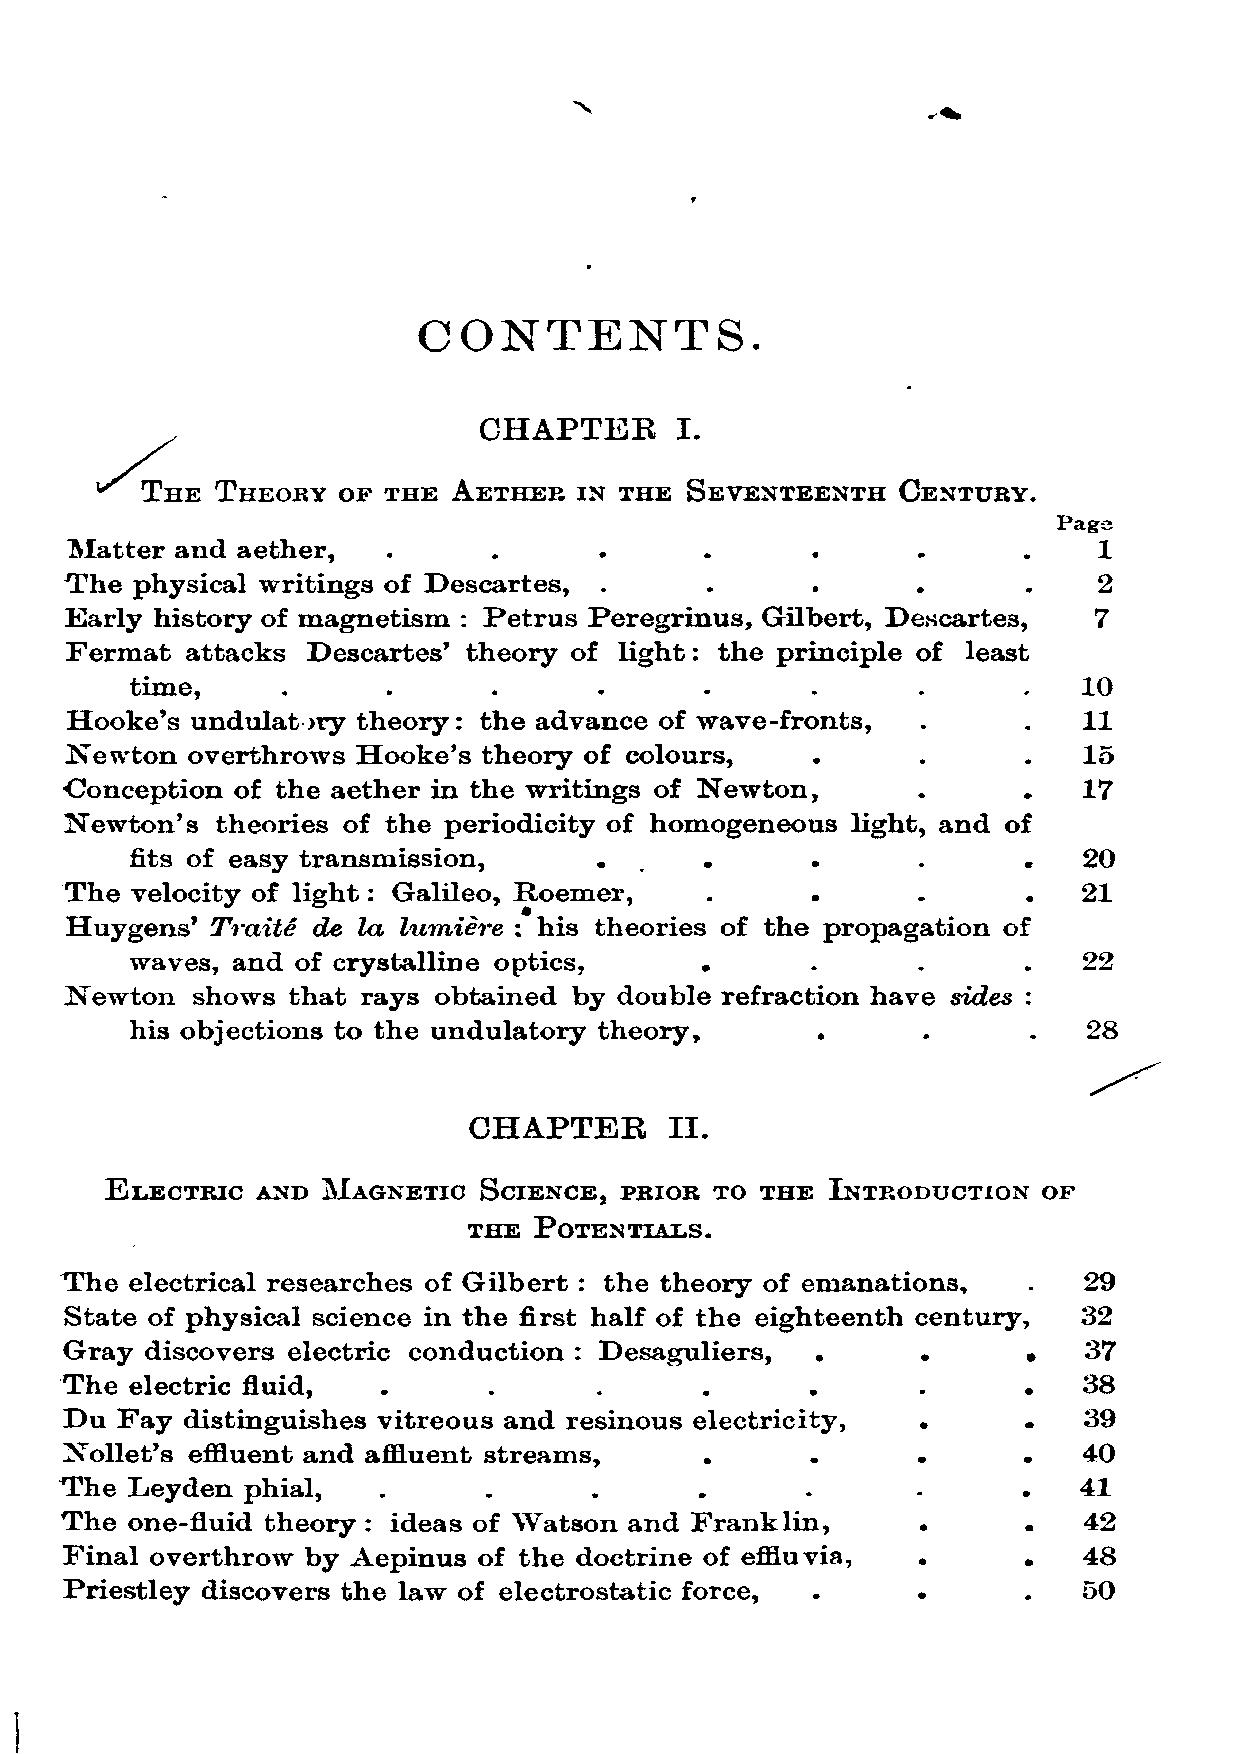TOC_chapter: (103, 1108, 1076, 1241), (136, 408, 1040, 506), (63, 981, 1035, 1049), (62, 807, 1037, 874), (62, 911, 1033, 977), (64, 639, 1028, 703), (59, 1302, 1027, 1333), (60, 1266, 965, 1296), (64, 603, 1028, 631), (64, 707, 874, 737), (63, 1573, 760, 1606), (55, 1507, 823, 1537), (62, 1406, 845, 1435), (63, 774, 819, 803), (62, 1542, 854, 1567), (64, 741, 731, 770), (59, 1338, 776, 1363), (62, 878, 637, 906), (60, 1440, 603, 1467), (64, 570, 576, 595), (67, 529, 335, 564), (63, 1474, 321, 1503), (60, 1370, 313, 1397)
TOC_pagenumber: (1079, 941, 1119, 976), (1076, 1439, 1119, 1465), (1080, 845, 1121, 872), (1082, 1016, 1123, 1041), (1082, 1405, 1119, 1432), (1079, 1578, 1121, 1602), (1082, 1504, 1121, 1530), (1080, 706, 1119, 731), (1080, 739, 1119, 765), (1079, 1369, 1117, 1394), (1082, 1541, 1121, 1565), (1083, 774, 1115, 803), (1076, 880, 1114, 905), (1079, 1304, 1119, 1326), (1082, 672, 1114, 699), (1083, 1270, 1121, 1291), (1079, 1474, 1111, 1496), (1086, 1334, 1113, 1359), (1094, 570, 1117, 600), (1092, 535, 1110, 562), (1092, 607, 1108, 629)
chapter: (412, 315, 760, 353)
